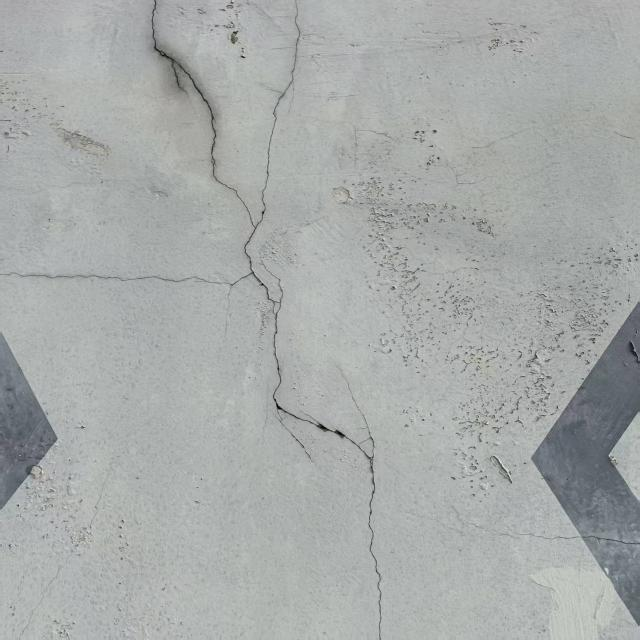crack: (3, 6, 397, 640), (422, 501, 637, 556)
